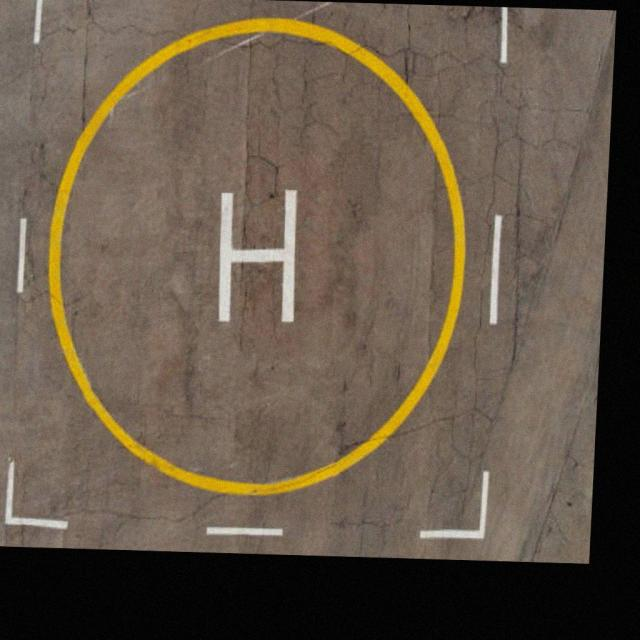helipad: (41, 12, 471, 504)
